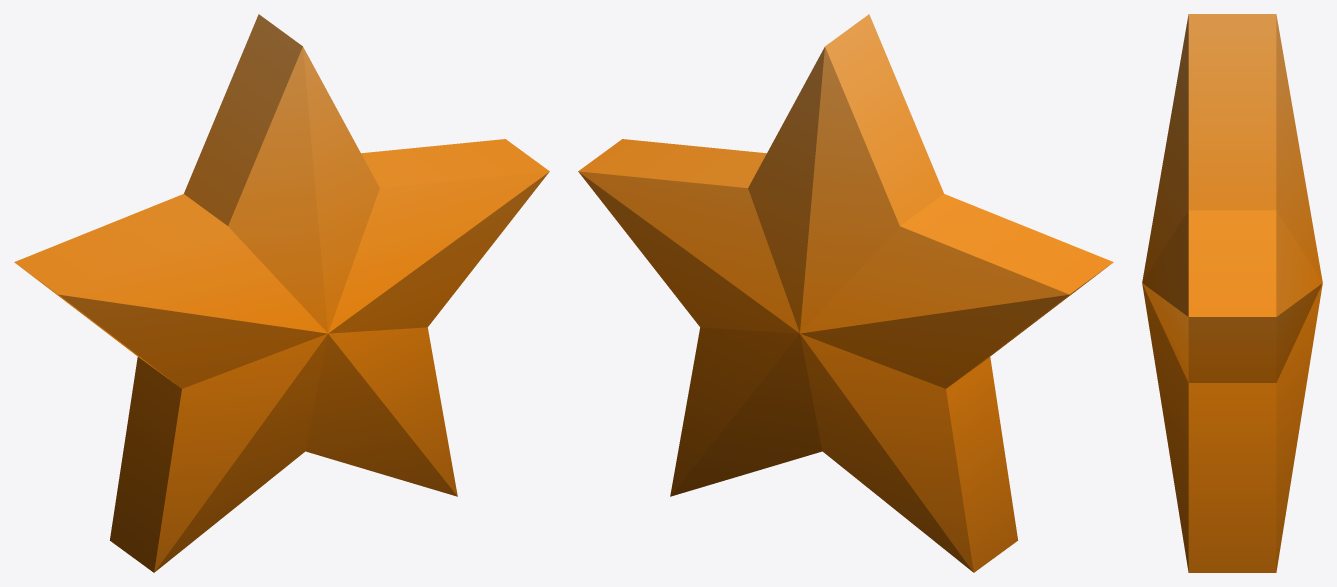
The model's file is Collectable_Star_02.fbx.
3 renders of one model, left to right at view 1: azimuth 30°, elevation 25°; view 2: azimuth 150°, elevation 25°; view 3: azimuth 270°, elevation 25°, orthographic.
Visible parts, largest first — view 1: Collectable_Star_02; view 2: Collectable_Star_02; view 3: Collectable_Star_02.
Boxes of the visible parts, left/top/right/bottom form: Collectable_Star_02: left=14, top=14, right=549, bottom=572; Collectable_Star_02: left=578, top=14, right=1113, bottom=572; Collectable_Star_02: left=1142, top=14, right=1322, bottom=572.
Size of the model in its own units: 75.18 by 71.65 by 24.14.
